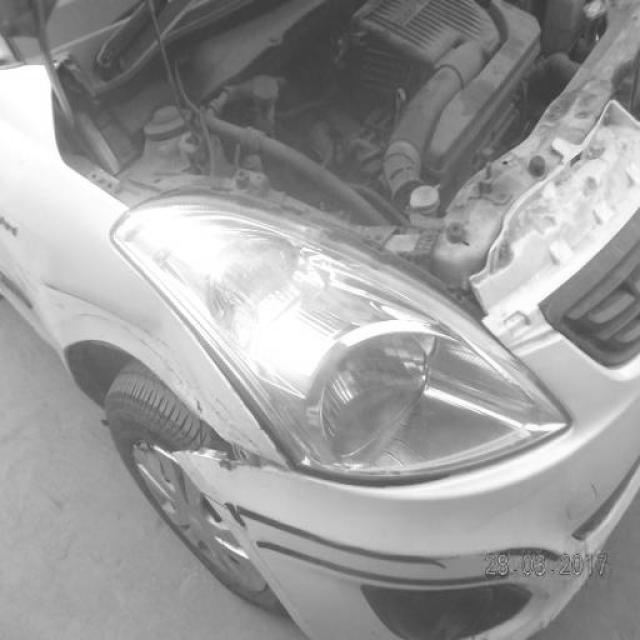car damage: (45, 274, 274, 452), (175, 390, 300, 477)
